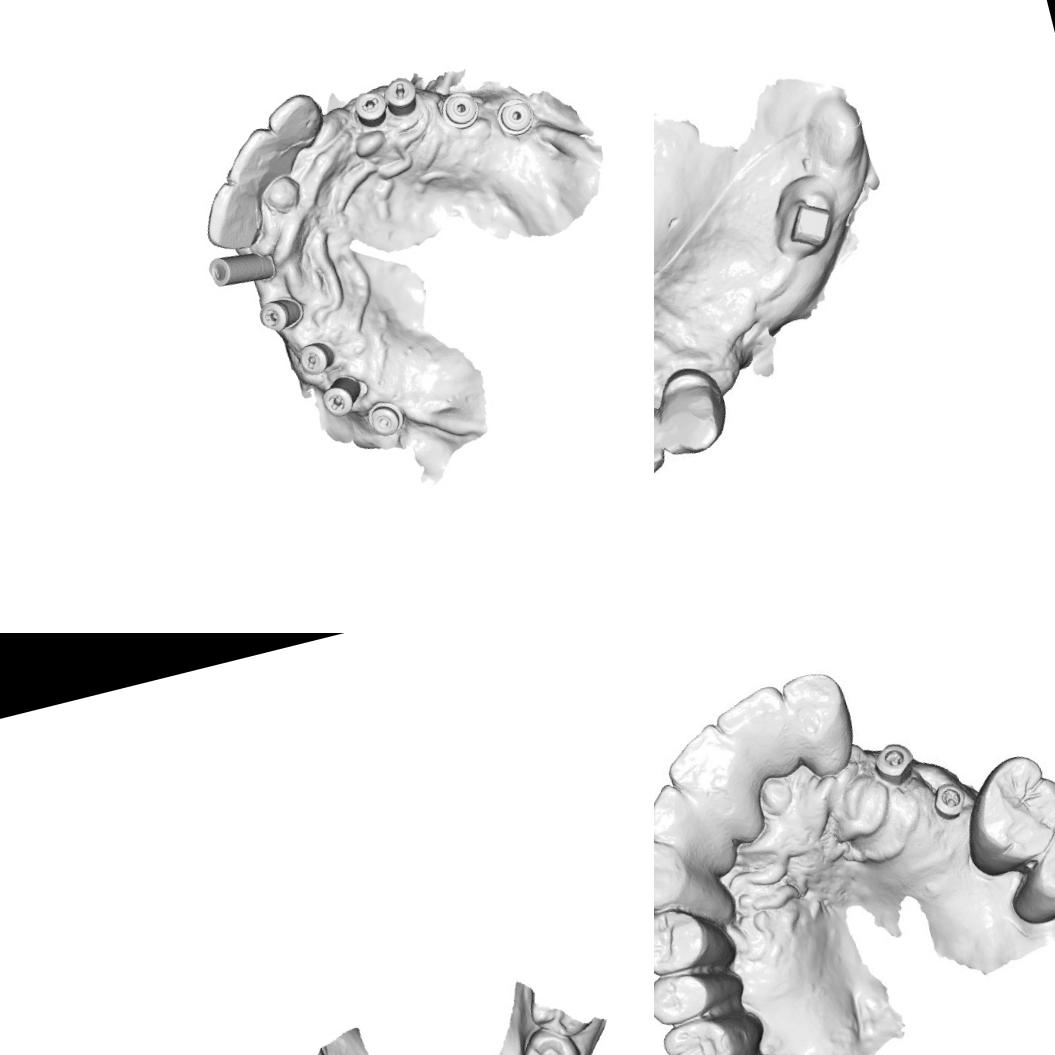canine: (654, 823, 742, 947), (654, 352, 741, 465)
implant: (204, 243, 279, 294), (926, 771, 978, 830), (871, 736, 921, 789), (490, 92, 540, 140), (436, 85, 484, 134), (363, 396, 409, 439)
implant_minus: (378, 71, 422, 121), (292, 336, 340, 380), (350, 84, 392, 132)
implant_plus: (316, 367, 374, 420), (253, 291, 308, 337)
incisor: (659, 720, 768, 856), (716, 680, 812, 796), (780, 664, 864, 779), (654, 773, 733, 887), (214, 120, 299, 198), (194, 173, 270, 257), (260, 87, 330, 157), (654, 390, 672, 488)
molar: (956, 746, 1055, 875), (995, 806, 1055, 929), (659, 1009, 763, 1055), (270, 1042, 344, 1055)
premolar: (654, 896, 743, 982), (654, 955, 751, 1029), (512, 1018, 586, 1055)
